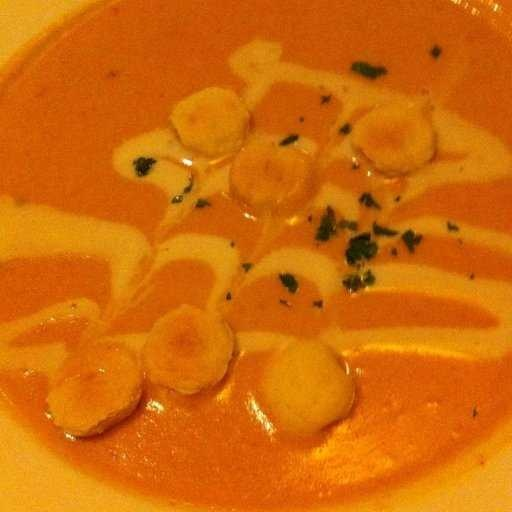soup: (5, 10, 502, 508)
